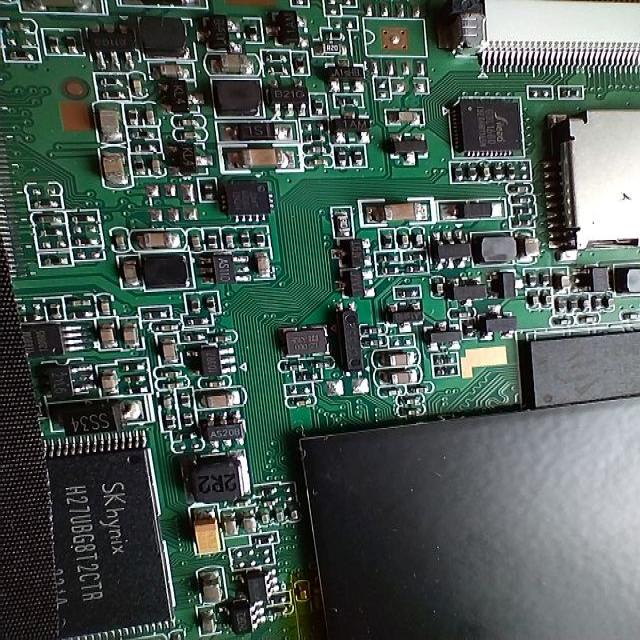capacitor: (366, 196, 429, 222), (126, 221, 176, 252), (373, 343, 425, 368), (246, 143, 283, 172), (98, 147, 126, 180), (216, 56, 262, 76), (382, 369, 415, 394), (206, 572, 229, 607), (205, 389, 238, 412), (385, 106, 431, 122), (102, 103, 125, 133), (156, 331, 179, 361), (125, 316, 143, 354), (522, 238, 548, 264), (238, 508, 259, 539), (94, 324, 115, 348), (225, 515, 238, 542)
resistor: (71, 200, 100, 226), (202, 223, 222, 256), (46, 248, 69, 269), (313, 92, 330, 118), (354, 142, 366, 170), (335, 143, 349, 165), (80, 212, 106, 223), (238, 228, 251, 249), (36, 196, 57, 208), (257, 223, 267, 244)
